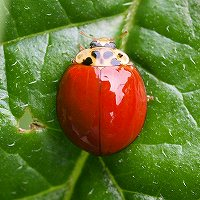Red: (54, 31, 146, 155)
